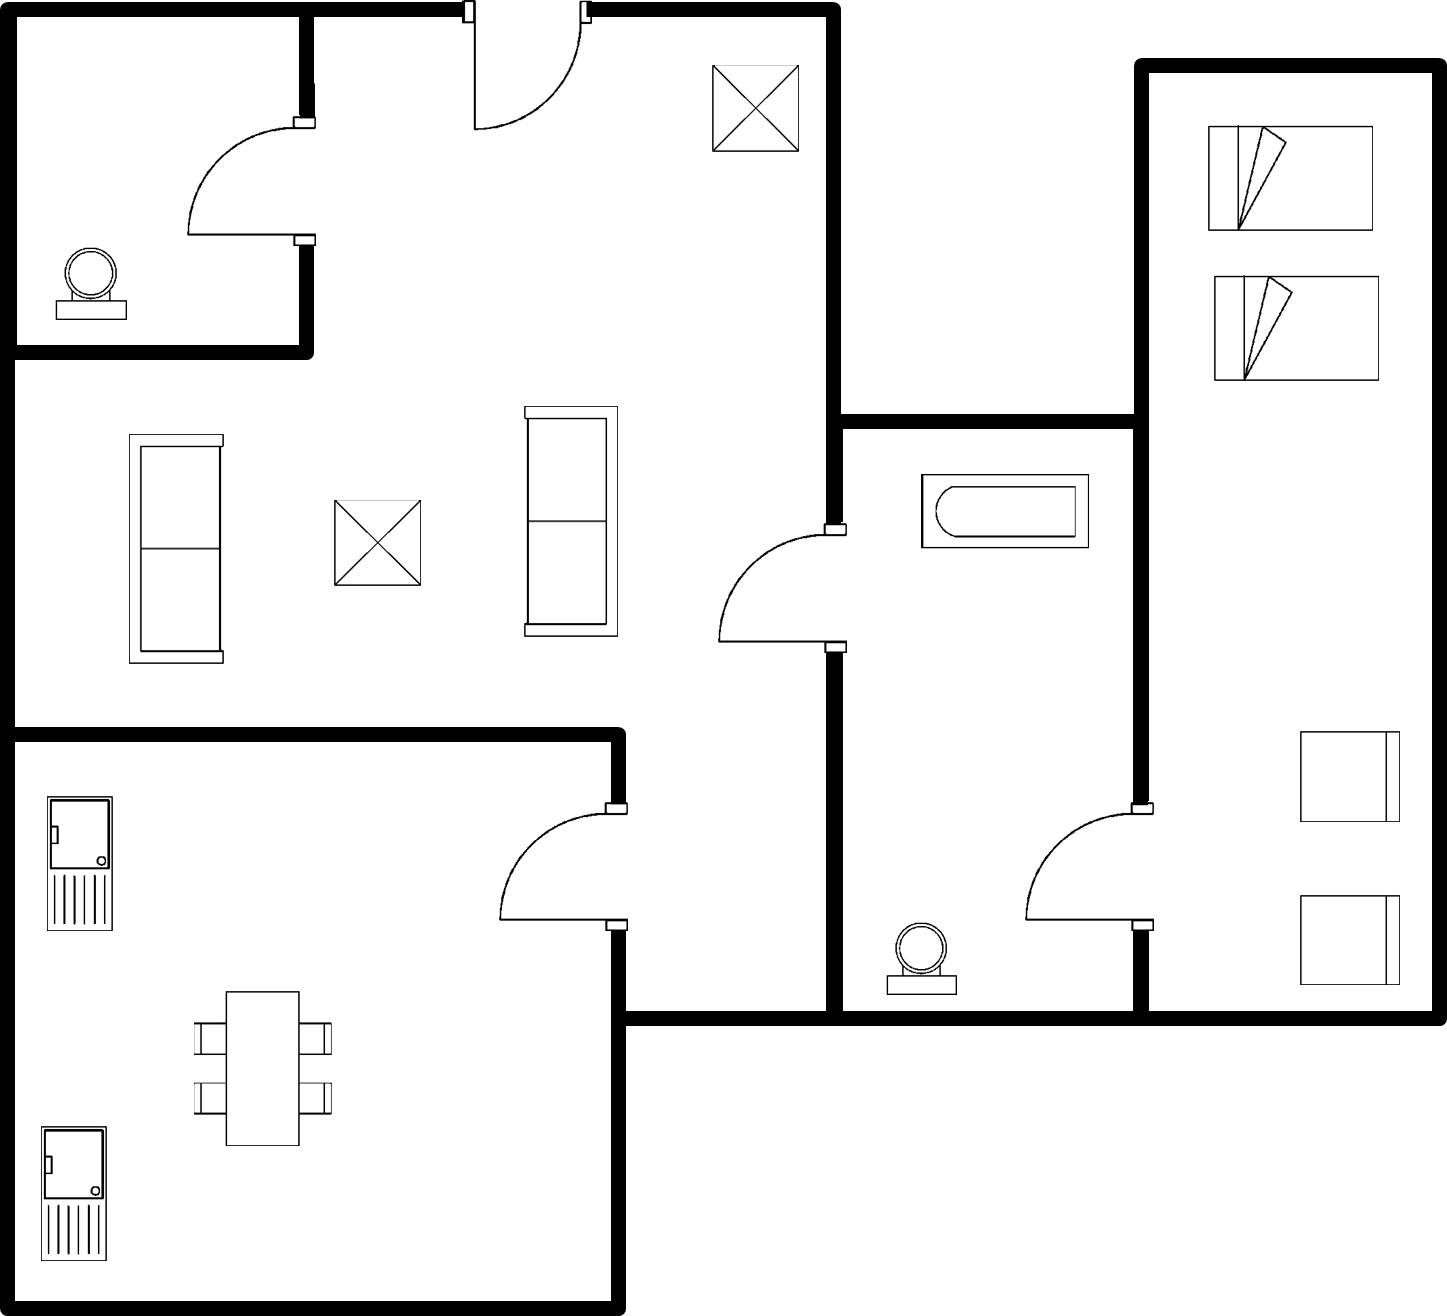bed: (1193, 115, 1382, 245), (1203, 269, 1389, 396)
coffee_table: (704, 55, 812, 161), (327, 493, 429, 600)
dining_table: (181, 978, 341, 1161)
large_sink: (875, 913, 981, 1002), (43, 242, 143, 334)
large_sofa: (511, 395, 625, 645), (116, 425, 231, 673)
sink: (34, 788, 130, 943), (34, 1118, 121, 1269)
small_sofa: (1284, 882, 1413, 999), (1284, 722, 1408, 836)
tub: (912, 465, 1096, 559)
